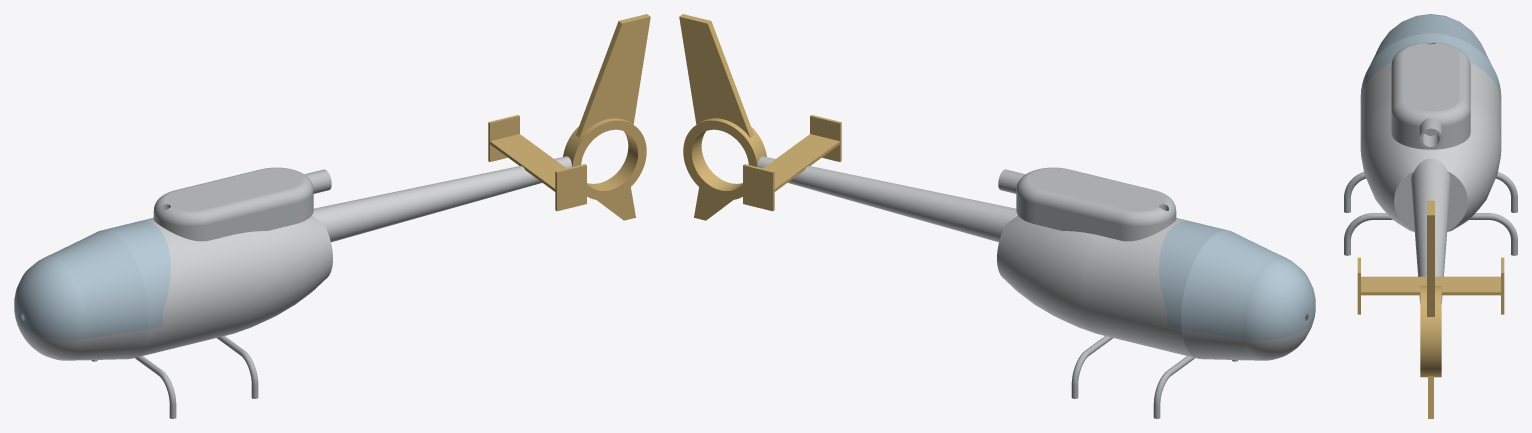
File: step_49.glb
3 views of the same model, side by side, from view 1: azimuth 30°, elevation 25°; view 2: azimuth 150°, elevation 25°; view 3: azimuth 270°, elevation 25° (orthographic). The views are drawn at different scales.
Visible parts, largest first — view 1: part__fuselage, part__canopy glazing, part__engine cowling, part__fin and fan duct, part__tail boom, part__horizontal stabiliser; view 2: part__fuselage, part__canopy glazing, part__engine cowling, part__fin and fan duct, part__tail boom, part__horizontal stabiliser; view 3: part__fuselage, part__engine cowling, part__canopy glazing, part__tail boom, part__horizontal stabiliser, part__fin and fan duct, part__cross tube rear, part__cross tube front.
Part boxes in pixels (x1,y1,x2,y2): part__fuselage: [16, 215, 332, 360]; part__canopy glazing: [14, 221, 170, 339]; part__engine cowling: [153, 167, 331, 241]; part__fin and fan duct: [563, 14, 650, 220]; part__tail boom: [312, 156, 572, 242]; part__horizontal stabiliser: [488, 115, 586, 211]; part__fuselage: [997, 215, 1313, 360]; part__canopy glazing: [1159, 221, 1315, 339]; part__engine cowling: [998, 167, 1176, 241]; part__fin and fan duct: [679, 14, 766, 220]; part__tail boom: [757, 156, 1017, 242]; part__horizontal stabiliser: [743, 115, 841, 211]; part__fuselage: [1360, 62, 1501, 231]; part__engine cowling: [1391, 42, 1470, 149]; part__canopy glazing: [1360, 14, 1501, 101]; part__tail boom: [1411, 158, 1450, 303]; part__horizontal stabiliser: [1357, 257, 1504, 314]; part__fin and fan duct: [1420, 200, 1441, 418]; part__cross tube rear: [1344, 213, 1517, 255]; part__cross tube front: [1344, 172, 1517, 212].
Size of the model in its own units: 8773 by 3320 by 1980.
